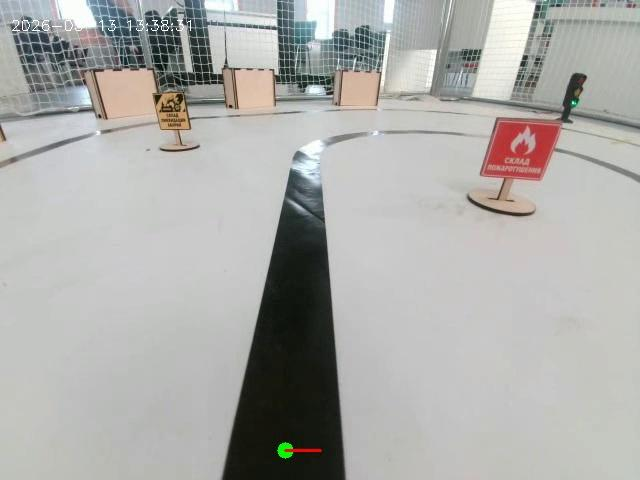fire: (470, 111, 568, 194)
industrial: (150, 87, 196, 133)
